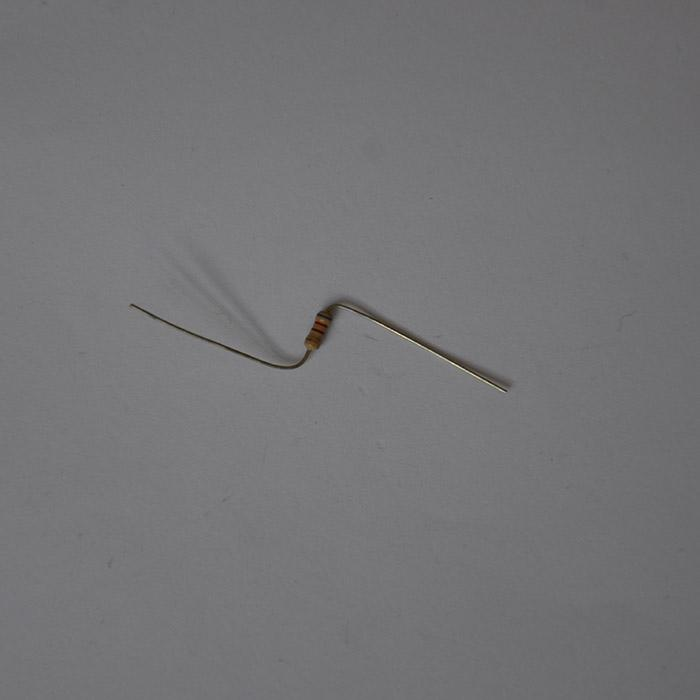resistor: (303, 308, 333, 352)
